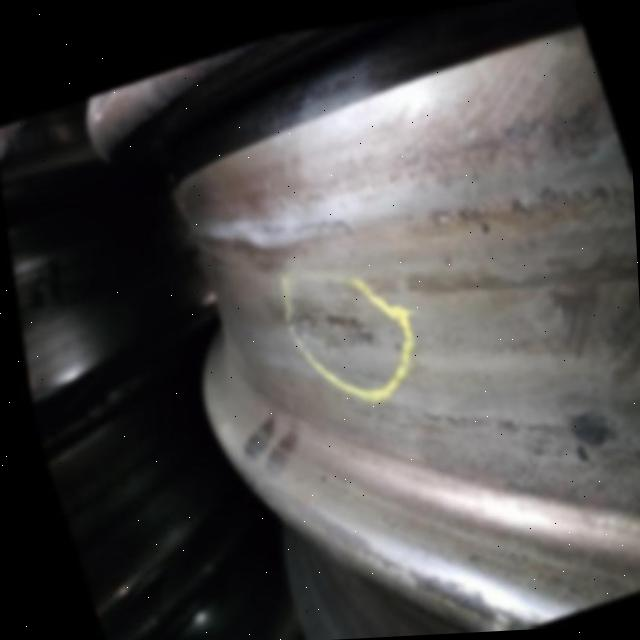Peeling: (280, 283, 373, 363)
